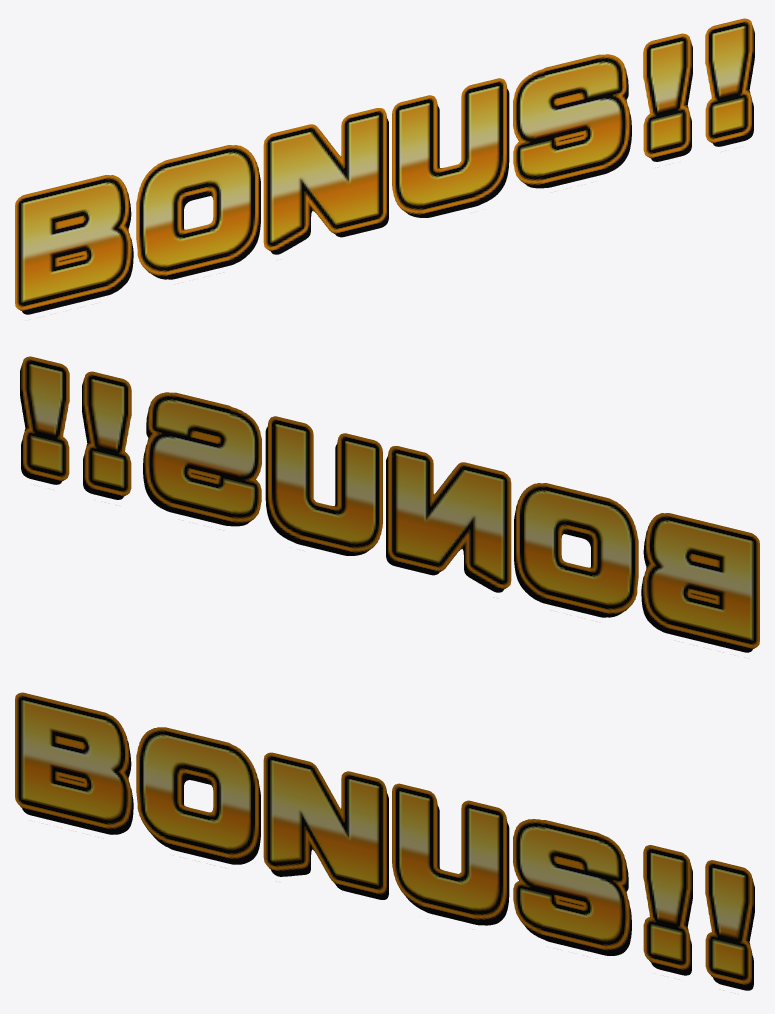
The model's file is GUI_arenabonus.FBX.
The picture shows the model from 3 angles, top to bottom: view 1: azimuth 30°, elevation 25°; view 2: azimuth 150°, elevation 25°; view 3: azimuth 330°, elevation 25°; orthographic projection.
Parts seen in each view (by area): view 1: GUI_arenabonus_3, GUI_arenabonus_1, GUI_arenabonus_5, GUI_arenabonus_2, GUI_arenabonus_4, GUI_arenabonus_7, GUI_arenabonus_6; view 2: GUI_arenabonus_3, GUI_arenabonus_1, GUI_arenabonus_5, GUI_arenabonus_2, GUI_arenabonus_4, GUI_arenabonus_7, GUI_arenabonus_6; view 3: GUI_arenabonus_3, GUI_arenabonus_1, GUI_arenabonus_5, GUI_arenabonus_2, GUI_arenabonus_4, GUI_arenabonus_6, GUI_arenabonus_7.
Boxes of the visible parts, x1,y1,x2,y2 form: GUI_arenabonus_3: [263, 108, 388, 254]; GUI_arenabonus_1: [15, 175, 133, 314]; GUI_arenabonus_5: [513, 54, 631, 188]; GUI_arenabonus_2: [136, 145, 260, 279]; GUI_arenabonus_4: [392, 78, 509, 217]; GUI_arenabonus_7: [705, 18, 754, 146]; GUI_arenabonus_6: [643, 33, 692, 161]; GUI_arenabonus_3: [386, 446, 511, 592]; GUI_arenabonus_1: [641, 513, 759, 652]; GUI_arenabonus_5: [143, 392, 261, 526]; GUI_arenabonus_2: [514, 483, 638, 617]; GUI_arenabonus_4: [265, 416, 382, 555]; GUI_arenabonus_7: [20, 356, 69, 484]; GUI_arenabonus_6: [82, 371, 131, 499]; GUI_arenabonus_3: [263, 752, 388, 899]; GUI_arenabonus_1: [15, 692, 133, 834]; GUI_arenabonus_5: [513, 819, 631, 955]; GUI_arenabonus_2: [136, 727, 260, 864]; GUI_arenabonus_4: [392, 783, 509, 925]; GUI_arenabonus_6: [643, 845, 692, 975]; GUI_arenabonus_7: [705, 860, 754, 990].
Size of the model in its own units: 483 by 79 by 3.45e-06.
6 materials, 6 textured.
